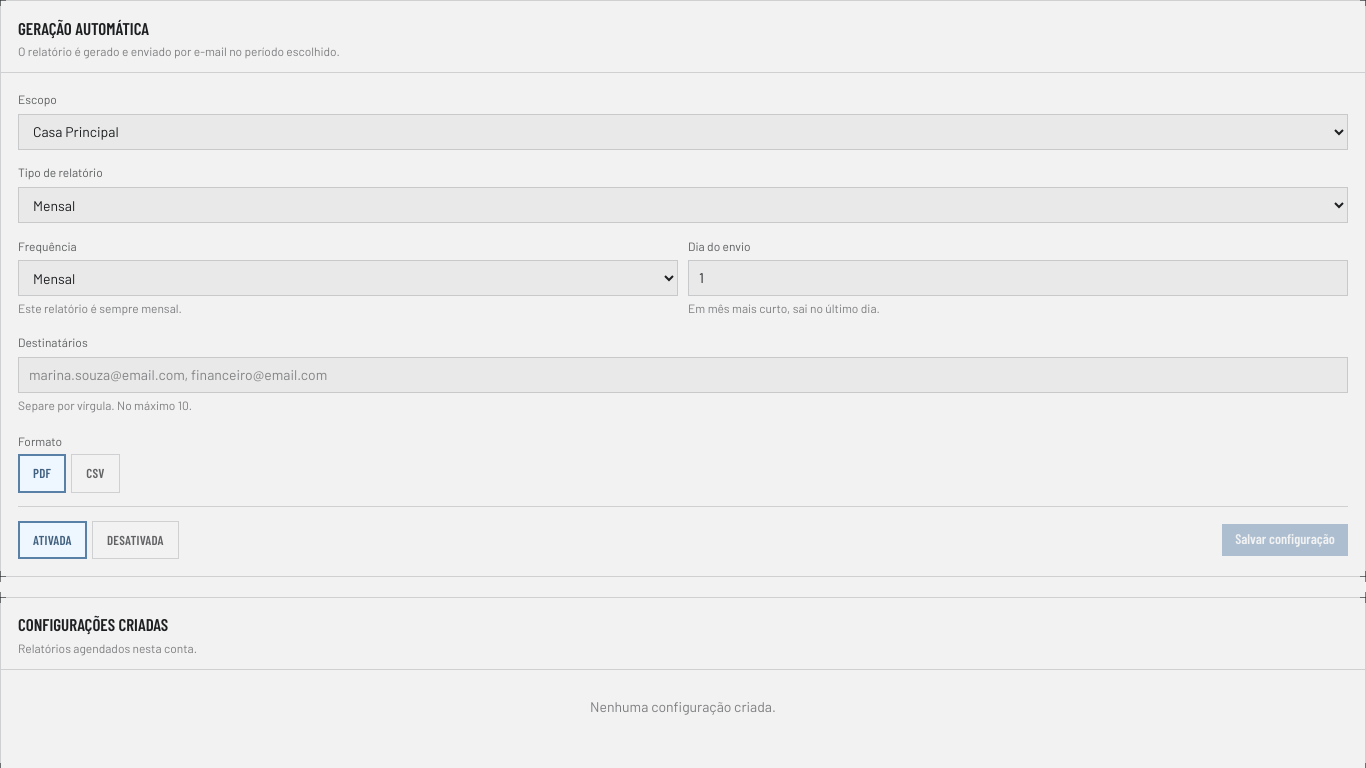
ReportSchedulesPage — formulário de criação › escolher de novo o relatório mensal volta a fixar a frequência
The width and height of the screenshot is (1366, 768).
Select "Consumo" in the dropdown labelled "Tipo de relatório". click: (683, 205)
box: x1=18 y1=187 x2=1348 y2=223
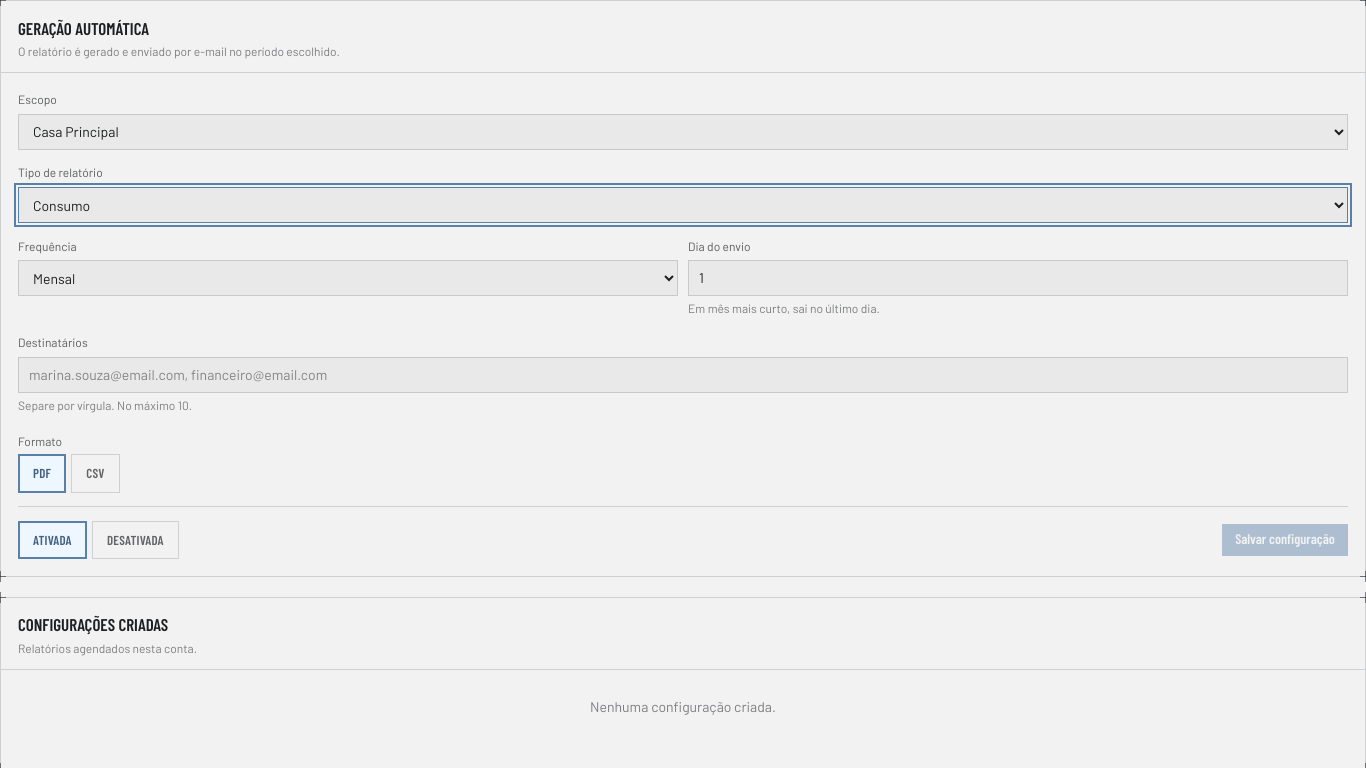
Select "Diária" in the dropdown labelled "Frequência". click: (348, 278)
box: x1=18 y1=260 x2=678 y2=296
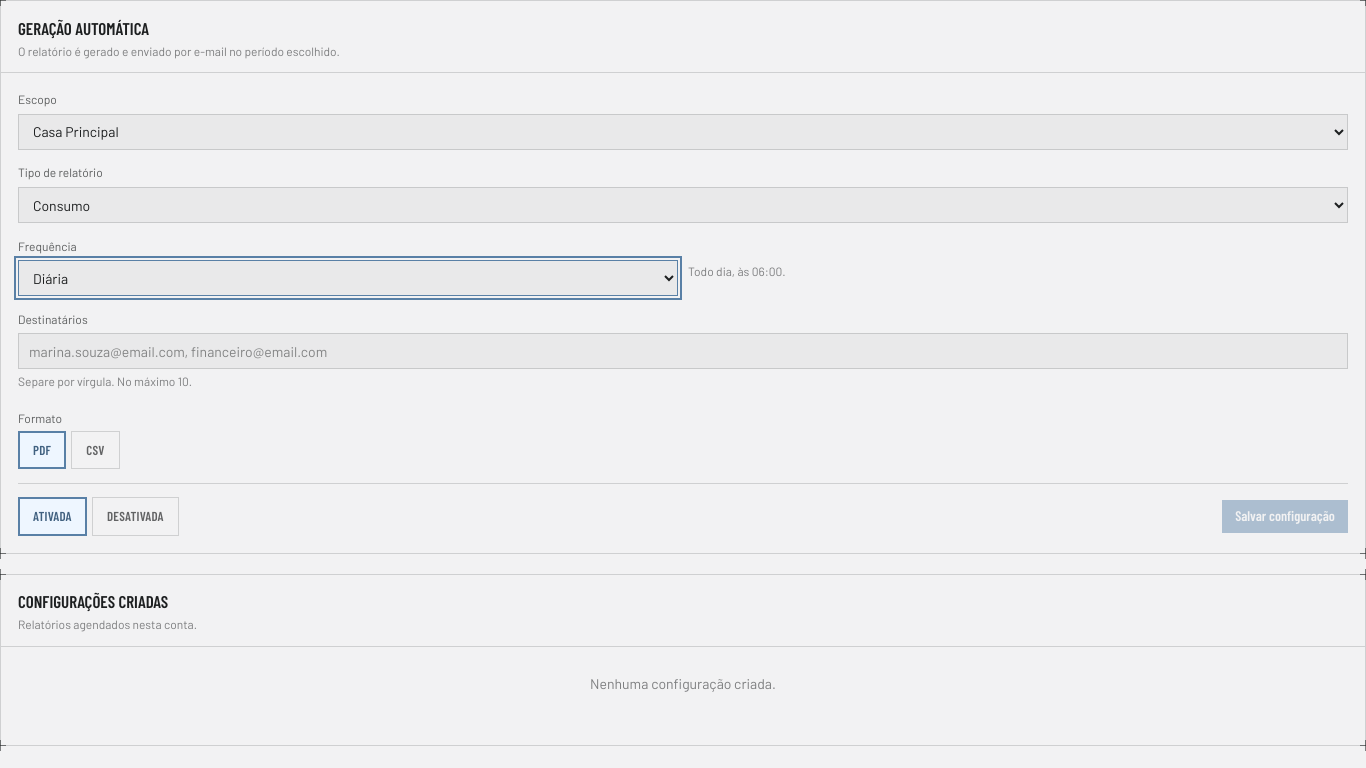
Select "Mensal" in the dropdown labelled "Tipo de relatório". click: (683, 205)
box: x1=18 y1=187 x2=1348 y2=223
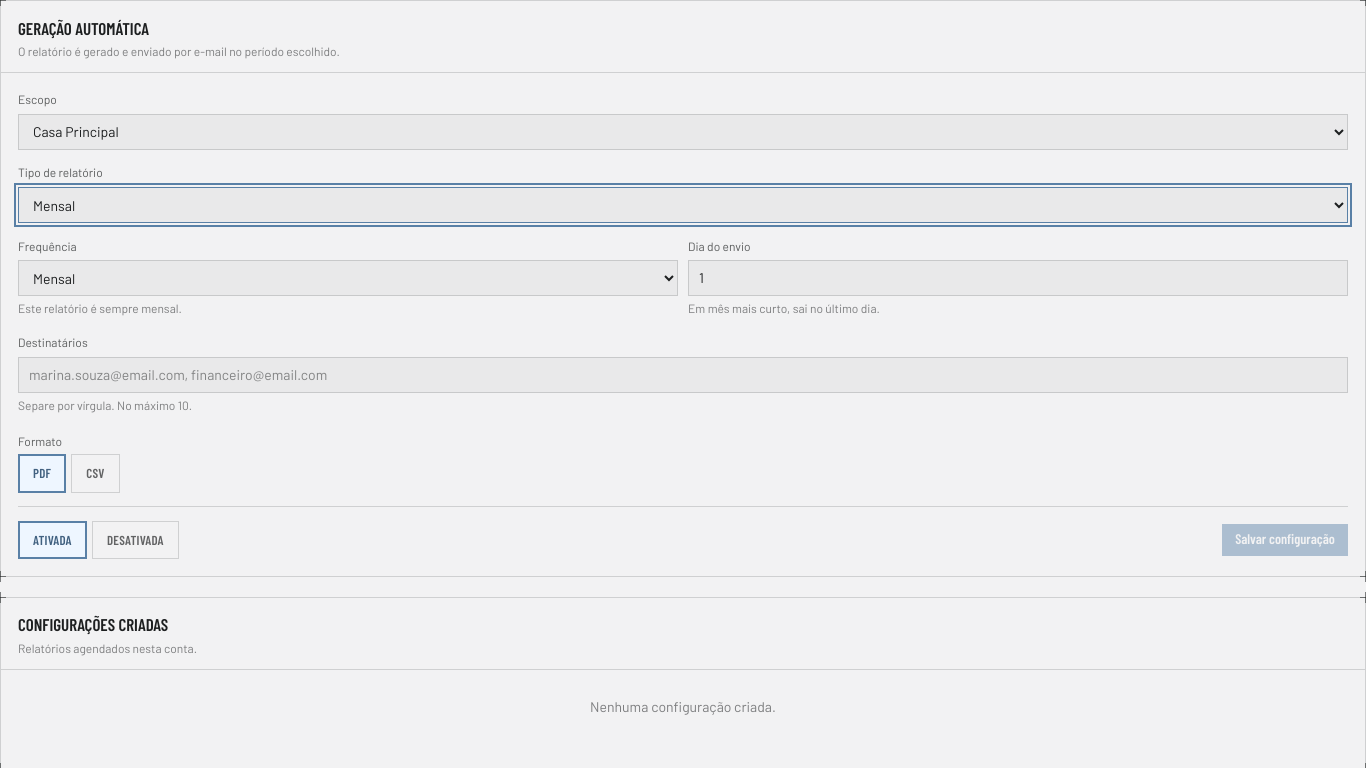
expect the dropdown labelled "Frequência" is disabled: met, box x1=18 y1=260 x2=678 y2=296
